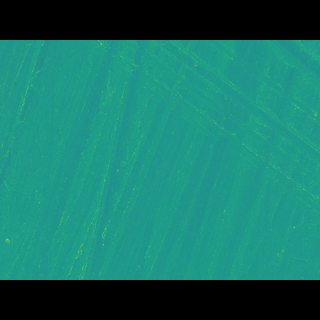Loch: (75, 68, 319, 201), (75, 68, 154, 250)
